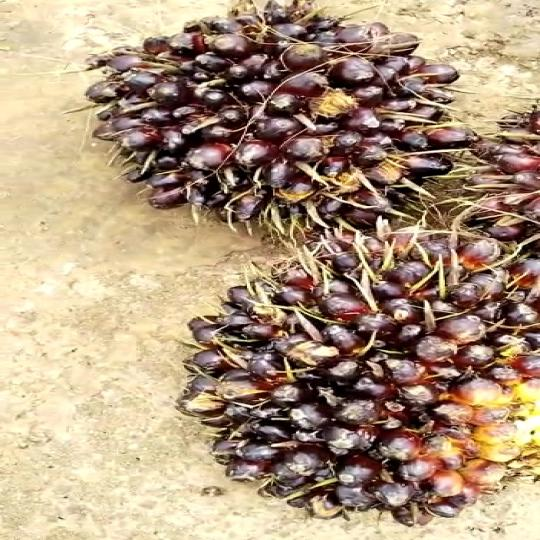mentah: (161, 230, 540, 522), (68, 0, 476, 228)
